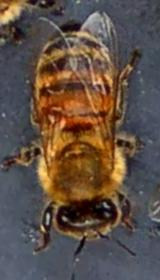varroa_mite: (36, 98, 69, 130)
